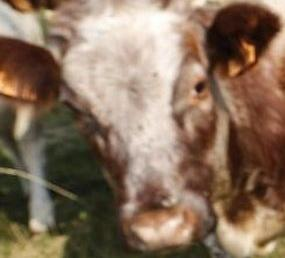muzzles: (117, 198, 220, 254)
